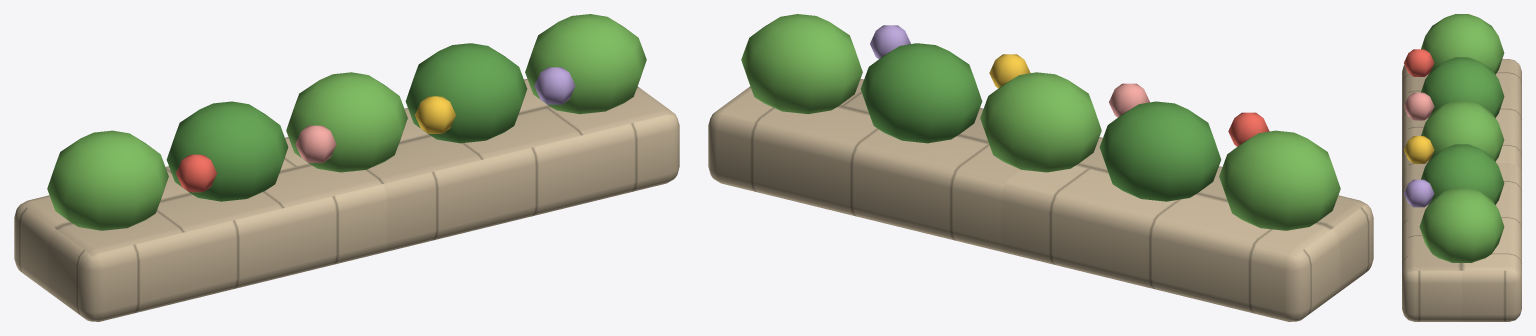
File: planter_long.gltf
3 views of the same model, side by side, from view 1: azimuth 30°, elevation 25°; view 2: azimuth 150°, elevation 25°; view 3: azimuth 270°, elevation 25° (orthographic). The views are drawn at different scales.
Parts seen in each view (by area): view 1: planter_long_mesh; view 2: planter_long_mesh; view 3: planter_long_mesh.
Boxes of the visible parts, bbox=[...] form: planter_long_mesh: bbox=[14, 14, 679, 321]; planter_long_mesh: bbox=[708, 14, 1373, 321]; planter_long_mesh: bbox=[1402, 14, 1521, 321].
Size of what is drawn, in the model's own units: 6 by 1.44 by 1.4.
7 materials, 1 textured.
